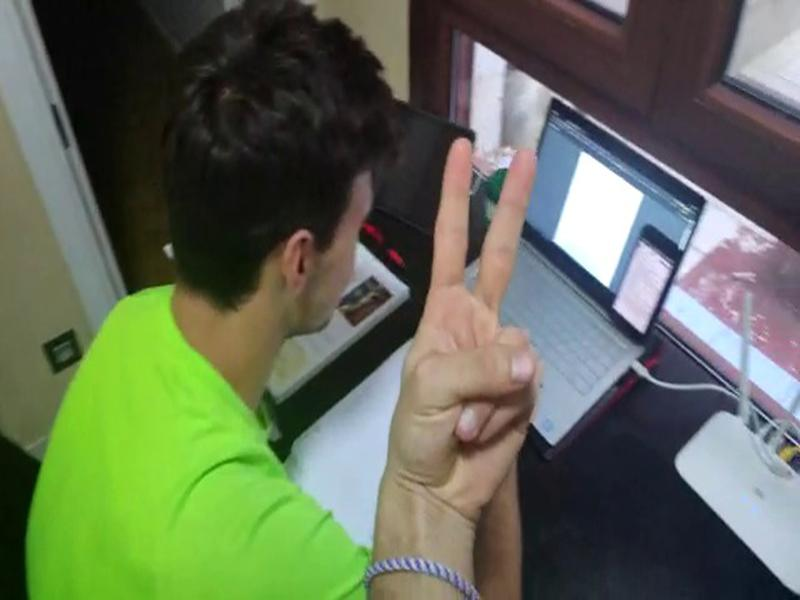Peace: (397, 125, 542, 526)
